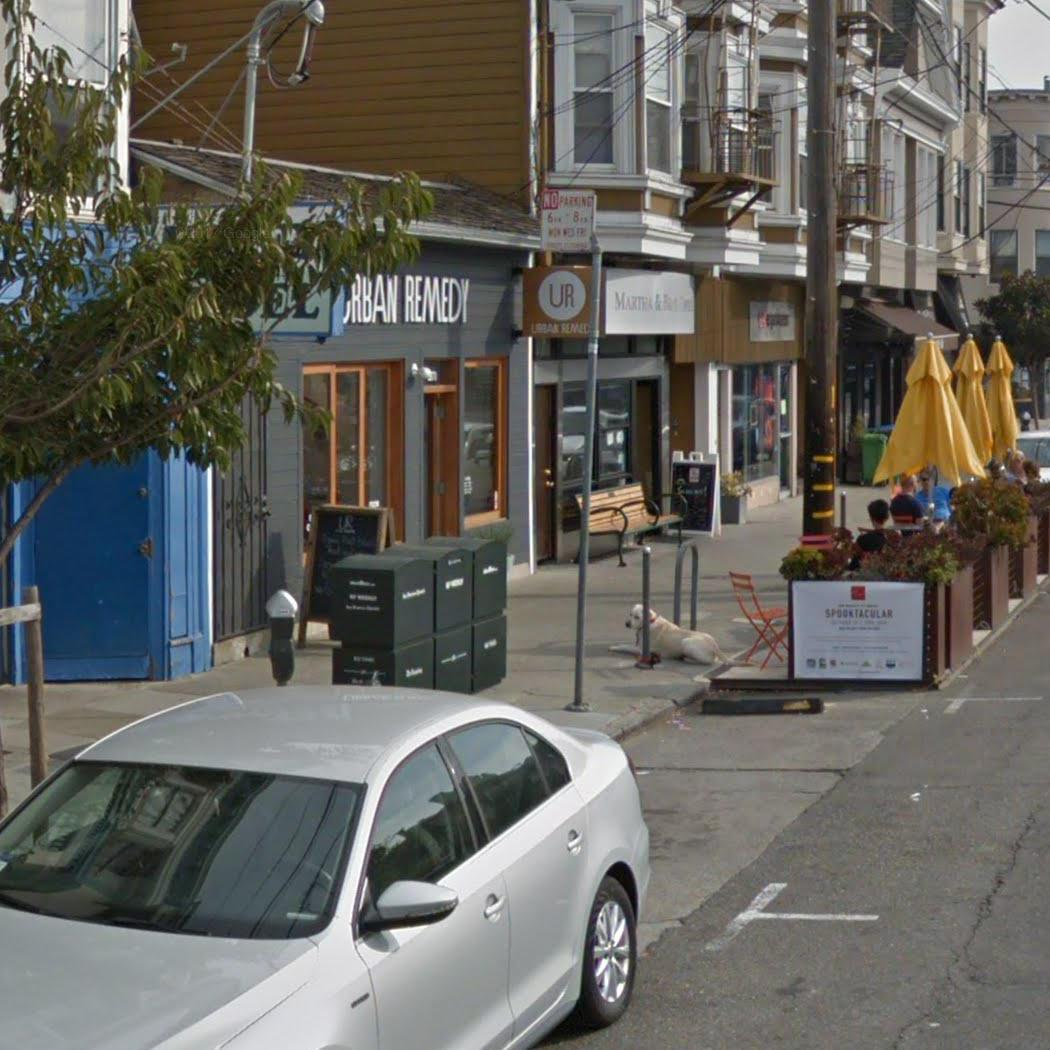No Parking: (534, 182, 599, 254)
